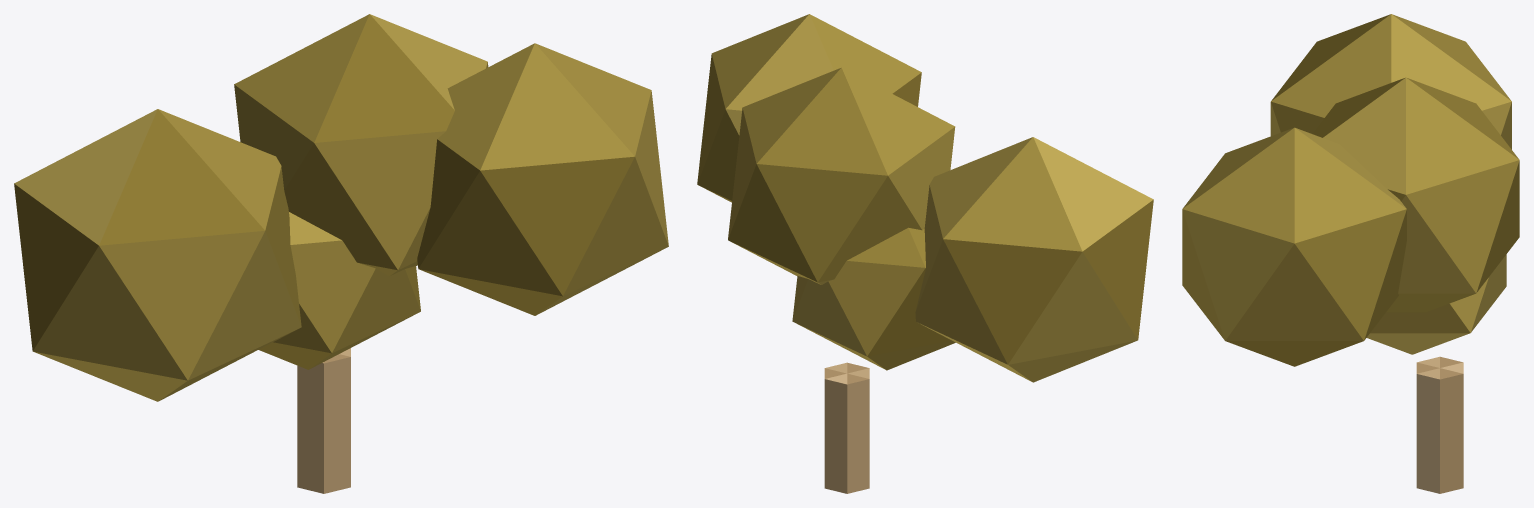
The model's file is WildPlant_a.fbx.
3 views of the same model, side by side, from view 1: azimuth 30°, elevation 25°; view 2: azimuth 150°, elevation 25°; view 3: azimuth 270°, elevation 25° (orthographic). The views are drawn at different scales.
Parts seen in each view (by area): view 1: WildPlant_a; view 2: WildPlant_a; view 3: WildPlant_a.
Boxes of the visible parts, bbox=[...] form: WildPlant_a: bbox=[14, 14, 668, 493]; WildPlant_a: bbox=[697, 14, 1153, 493]; WildPlant_a: bbox=[1182, 14, 1519, 493].
Size of what is drawn, in the model's own units: 0.6328 by 0.5093 by 0.3741.
